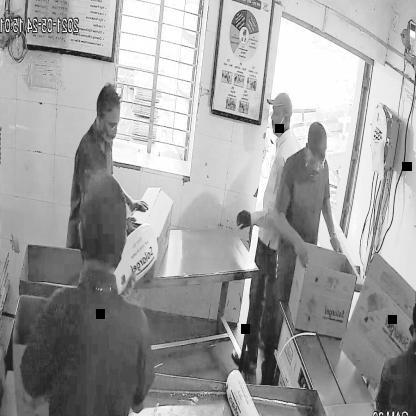goggles: (306, 149, 328, 171)
